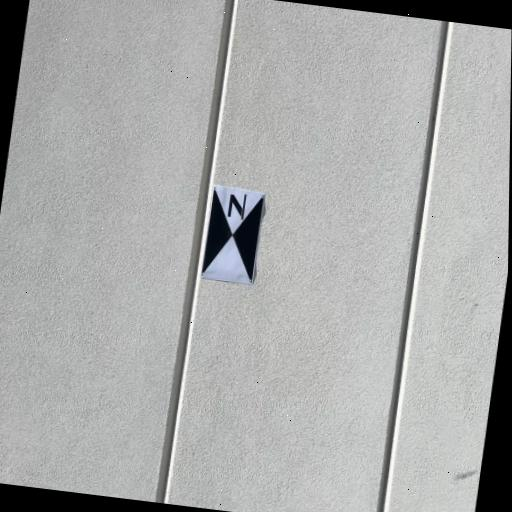target7: (201, 184, 265, 287)
